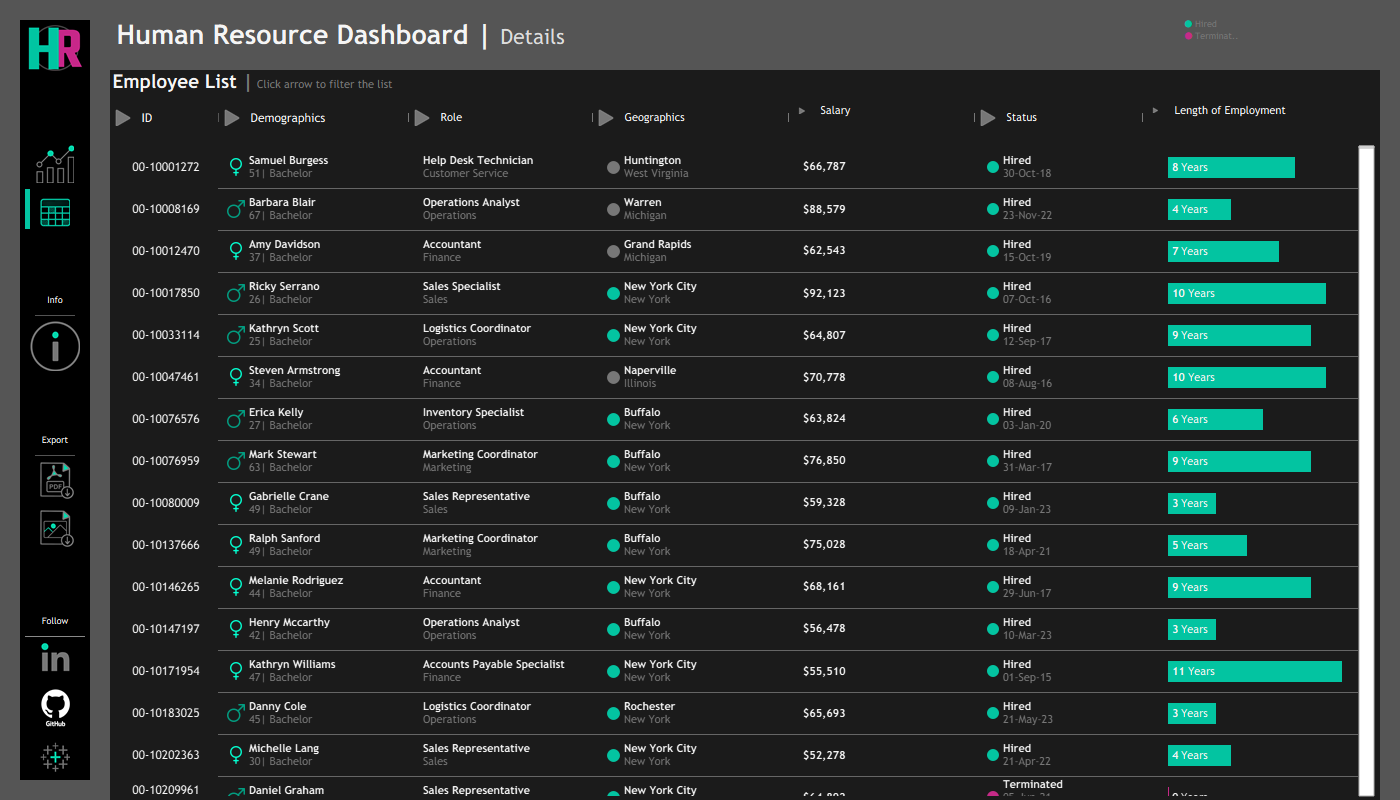

This screenshot's page, from the dashboard's own definition file:
{"tool":"tableau","page":{"name":"HR | Deatils","canvas":[1400,800],"ordinal":0},"visuals":[{"type":"text","box":[110,0,949,70]},{"type":"blank","box":[1059,0,321,70]},{"type":"text","box":[1182,16,61,30]},{"type":"image","param":"Image/Logo.png","box":[20,20,70,55]},{"type":"text","box":[110,70,1270,23]},{"type":"blank","box":[20,75,70,60]},{"type":"dashboard-object","box":[110,103,25,32]},{"type":"text","box":[135,103,83,32]},{"type":"blank","box":[218,103,1,186]},{"type":"dashboard-object","box":[219,103,25,32]},{"type":"text","box":[244,103,164,32]},{"type":"blank","box":[408,103,1,186]},{"type":"dashboard-object","box":[409,103,25,32]},{"type":"text","box":[434,103,158,32]},{"type":"blank","box":[592,103,1,186]},{"type":"dashboard-object","box":[593,103,25,32]},{"type":"text","box":[618,103,170,32]},{"type":"blank","box":[788,103,1,186]},{"type":"dashboard-object","box":[789,103,25,32]},{"type":"text","box":[814,103,160,32]},{"type":"blank","box":[974,103,1,186]},{"type":"dashboard-object","box":[975,103,25,32]},{"type":"text","box":[1000,103,142,32]},{"type":"blank","box":[1142,103,1,186]},{"type":"dashboard-object","box":[1143,103,25,32]},{"type":"text","box":[1168,103,212,32]},{"type":"filter","title":"Employee Table","param":"[federated.1epie721qamutk1f8vla402ryr66].[none:Employee_ID:nk]","box":[110,135,108,45]},{"type":"filter","title":"Employee Table","param":"[federated.1epie721qamutk1f8vla402ryr66].[none:Calculation_1153405109690370:nk]","box":[219,135,189,38.5]},{"type":"filter","title":"Employee Table","param":"[federated.1epie721qamutk1f8vla402ryr66].[none:Department:nk]","box":[409,135,183,48]},{"type":"filter","title":"Employee Table","param":"[federated.1epie721qamutk1f8vla402ryr66].[none:Calculation_0877701839294473:nk]","box":[593,135,195,48]},{"type":"filter","title":"Employee Table","param":"[federated.1epie721qamutk1f8vla402ryr66].[sum:Salary:qk]","box":[789,135,185,65]},{"type":"filter","title":"Employee Table","param":"[federated.1epie721qamutk1f8vla402ryr66].[none:Calculation_1261156856659968:nk]","box":[975,135,167,48]},{"type":"filter","title":"Employee Table","param":"[federated.1epie721qamutk1f8vla402ryr66].[sum:Calculation_1153405119275011:qk]","box":[1143,135,237,65]},{"type":"dashboard-object","box":[30,145,50,38]},{"type":"filter","title":"Employee Table","param":"[federated.1epie721qamutk1f8vla402ryr66].[none:Gender:nk]","box":[219,173.5,189,38.5]},{"type":"blank","box":[30,183,50,10]},{"type":"filter","title":"Employee Table","param":"[federated.1epie721qamutk1f8vla402ryr66].[none:Job Title:nk]","box":[409,183,183,48]},{"type":"filter","title":"Employee Table","param":"[federated.1epie721qamutk1f8vla402ryr66].[none:State:nk]","box":[593,183,195,48]},{"type":"filter","title":"Employee Table","param":"[federated.1epie721qamutk1f8vla402ryr66].[yr:Hiredate:ok]","box":[975,183,167,48]},{"type":"text","box":[89,186,1311,307]},{"type":"blank","box":[25,189,5,40]},{"type":"dashboard-object","box":[30,193,50,38]},{"type":"filter","title":"Employee Table","param":"[federated.1epie721qamutk1f8vla402ryr66].[none:Calculation_0877701890605068:ok]","box":[219,212,189,38.5]},{"type":"blank","box":[30,231,50,60]},{"type":"filter","title":"Employee Table","param":"[federated.1epie721qamutk1f8vla402ryr66].[none:City:nk]","box":[593,231,195,48]},{"type":"filter","title":"Employee Table","param":"[federated.1epie721qamutk1f8vla402ryr66].[yr:Termdate:ok]","box":[975,231,167,48]},{"type":"filter","title":"Employee Table","param":"[federated.1epie721qamutk1f8vla402ryr66].[none:Education Level:nk]","box":[219,250.5,189,38.5]},{"type":"text","box":[30,291,50,19]},{"type":"worksheet","title":"Employee Table","mark":"Shape","rows":["Employee_ID"],"cols":["Calculation_1153405108887553","Calculation_1153405108887553","Calculation_1153405108887553","Calculation_1153405108887553","Calculation_1153405108887553","Calculation_1153405119275011"],"box":[110,299,1270,501]},{"type":"blank","box":[30,310,50,11]},{"type":"dashboard-object","box":[30,321,50,50]},{"type":"blank","box":[30,371,50,60]},{"type":"text","box":[30,431,50,19]},{"type":"blank","box":[30,450,50,11]},{"type":"dashboard-object","box":[30,461,50,38]},{"type":"blank","box":[30,499,50,10]},{"type":"dashboard-object","box":[30,509,50,38]},{"type":"blank","box":[20,571,70,41]},{"type":"text","box":[20,612,70,19]},{"type":"blank","box":[20,631,70,11]},{"type":"image","param":"Image/contact-linkedin.png","box":[20,642,70,30]},{"type":"blank","box":[20,672,70,10]},{"type":"image","param":"Image/github-logo.jpg","box":[20,682,70,50]},{"type":"blank","box":[20,732,70,10]},{"type":"image","param":"Image/contact-public.png","box":[20,742,70,30]}]}

Visuals, with their boxes on the page's 1400x800 design canvas (x1, y1, x2, y2). These are canvas units, not pixel positions in the 1400x800 screenshot, which may show the page scaled, cropped or inside an application window:
text: x1=110, y1=0, x2=1059, y2=70
blank: x1=1059, y1=0, x2=1380, y2=70
text: x1=1182, y1=16, x2=1243, y2=46
image: x1=20, y1=20, x2=90, y2=75
text: x1=110, y1=70, x2=1380, y2=93
blank: x1=20, y1=75, x2=90, y2=135
dashboard-object: x1=110, y1=103, x2=135, y2=135
text: x1=135, y1=103, x2=218, y2=135
blank: x1=218, y1=103, x2=219, y2=289
dashboard-object: x1=219, y1=103, x2=244, y2=135
text: x1=244, y1=103, x2=408, y2=135
blank: x1=408, y1=103, x2=409, y2=289
dashboard-object: x1=409, y1=103, x2=434, y2=135
text: x1=434, y1=103, x2=592, y2=135
blank: x1=592, y1=103, x2=593, y2=289
dashboard-object: x1=593, y1=103, x2=618, y2=135
text: x1=618, y1=103, x2=788, y2=135
blank: x1=788, y1=103, x2=789, y2=289
dashboard-object: x1=789, y1=103, x2=814, y2=135
text: x1=814, y1=103, x2=974, y2=135
blank: x1=974, y1=103, x2=975, y2=289
dashboard-object: x1=975, y1=103, x2=1000, y2=135
text: x1=1000, y1=103, x2=1142, y2=135
blank: x1=1142, y1=103, x2=1143, y2=289
dashboard-object: x1=1143, y1=103, x2=1168, y2=135
text: x1=1168, y1=103, x2=1380, y2=135
"Employee Table" filter: x1=110, y1=135, x2=218, y2=180
"Employee Table" filter: x1=219, y1=135, x2=408, y2=174
"Employee Table" filter: x1=409, y1=135, x2=592, y2=183
"Employee Table" filter: x1=593, y1=135, x2=788, y2=183
"Employee Table" filter: x1=789, y1=135, x2=974, y2=200
"Employee Table" filter: x1=975, y1=135, x2=1142, y2=183
"Employee Table" filter: x1=1143, y1=135, x2=1380, y2=200
dashboard-object: x1=30, y1=145, x2=80, y2=183
"Employee Table" filter: x1=219, y1=174, x2=408, y2=212
blank: x1=30, y1=183, x2=80, y2=193
"Employee Table" filter: x1=409, y1=183, x2=592, y2=231
"Employee Table" filter: x1=593, y1=183, x2=788, y2=231
"Employee Table" filter: x1=975, y1=183, x2=1142, y2=231
text: x1=89, y1=186, x2=1400, y2=493
blank: x1=25, y1=189, x2=30, y2=229
dashboard-object: x1=30, y1=193, x2=80, y2=231
"Employee Table" filter: x1=219, y1=212, x2=408, y2=250
blank: x1=30, y1=231, x2=80, y2=291
"Employee Table" filter: x1=593, y1=231, x2=788, y2=279
"Employee Table" filter: x1=975, y1=231, x2=1142, y2=279
"Employee Table" filter: x1=219, y1=250, x2=408, y2=289
text: x1=30, y1=291, x2=80, y2=310
"Employee Table" worksheet (Shape marks): x1=110, y1=299, x2=1380, y2=800
blank: x1=30, y1=310, x2=80, y2=321
dashboard-object: x1=30, y1=321, x2=80, y2=371
blank: x1=30, y1=371, x2=80, y2=431
text: x1=30, y1=431, x2=80, y2=450
blank: x1=30, y1=450, x2=80, y2=461
dashboard-object: x1=30, y1=461, x2=80, y2=499
blank: x1=30, y1=499, x2=80, y2=509
dashboard-object: x1=30, y1=509, x2=80, y2=547
blank: x1=20, y1=571, x2=90, y2=612
text: x1=20, y1=612, x2=90, y2=631
blank: x1=20, y1=631, x2=90, y2=642
image: x1=20, y1=642, x2=90, y2=672
blank: x1=20, y1=672, x2=90, y2=682
image: x1=20, y1=682, x2=90, y2=732
blank: x1=20, y1=732, x2=90, y2=742
image: x1=20, y1=742, x2=90, y2=772
